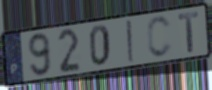0: (88, 23, 111, 68)
2: (56, 27, 84, 76)
9: (27, 31, 52, 78)
C: (146, 14, 174, 60)
I: (125, 18, 136, 64)
T: (177, 10, 200, 55)
